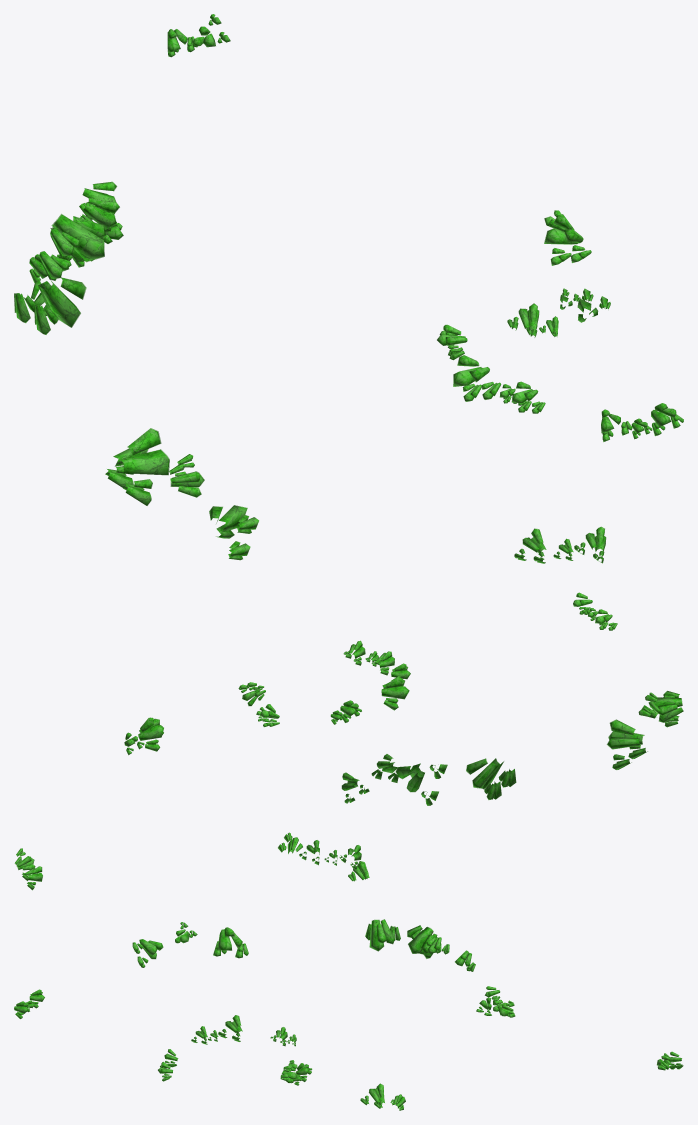
The model's file is crystal_glow.glb.
3 renders of one model, top to bottom at view 1: azimuth 30°, elevation 25°; view 2: azimuth 150°, elevation 25°; view 3: azimuth 270°, elevation 25°, orthographic. The views are drawn at different scales.
Parts seen in each view (by area): view 1: emerald.png__, chrome.jpg__; view 2: emerald.png__, chrome.jpg__; view 3: emerald.png__, chrome.jpg__.
Boxes of the visible parts, left/top/right/bottom form: emerald.png__: left=14, top=14, right=683, bottom=563; chrome.jpg__: left=14, top=14, right=683, bottom=563; emerald.png__: left=15, top=592, right=683, bottom=890; chrome.jpg__: left=15, top=592, right=682, bottom=889; emerald.png__: left=14, top=919, right=683, bottom=1110; chrome.jpg__: left=14, top=919, right=682, bottom=1110.
Bounding box in the file's own units: 88.45 × 20.22 × 159.
Materials: 2 (2 with a texture image).
